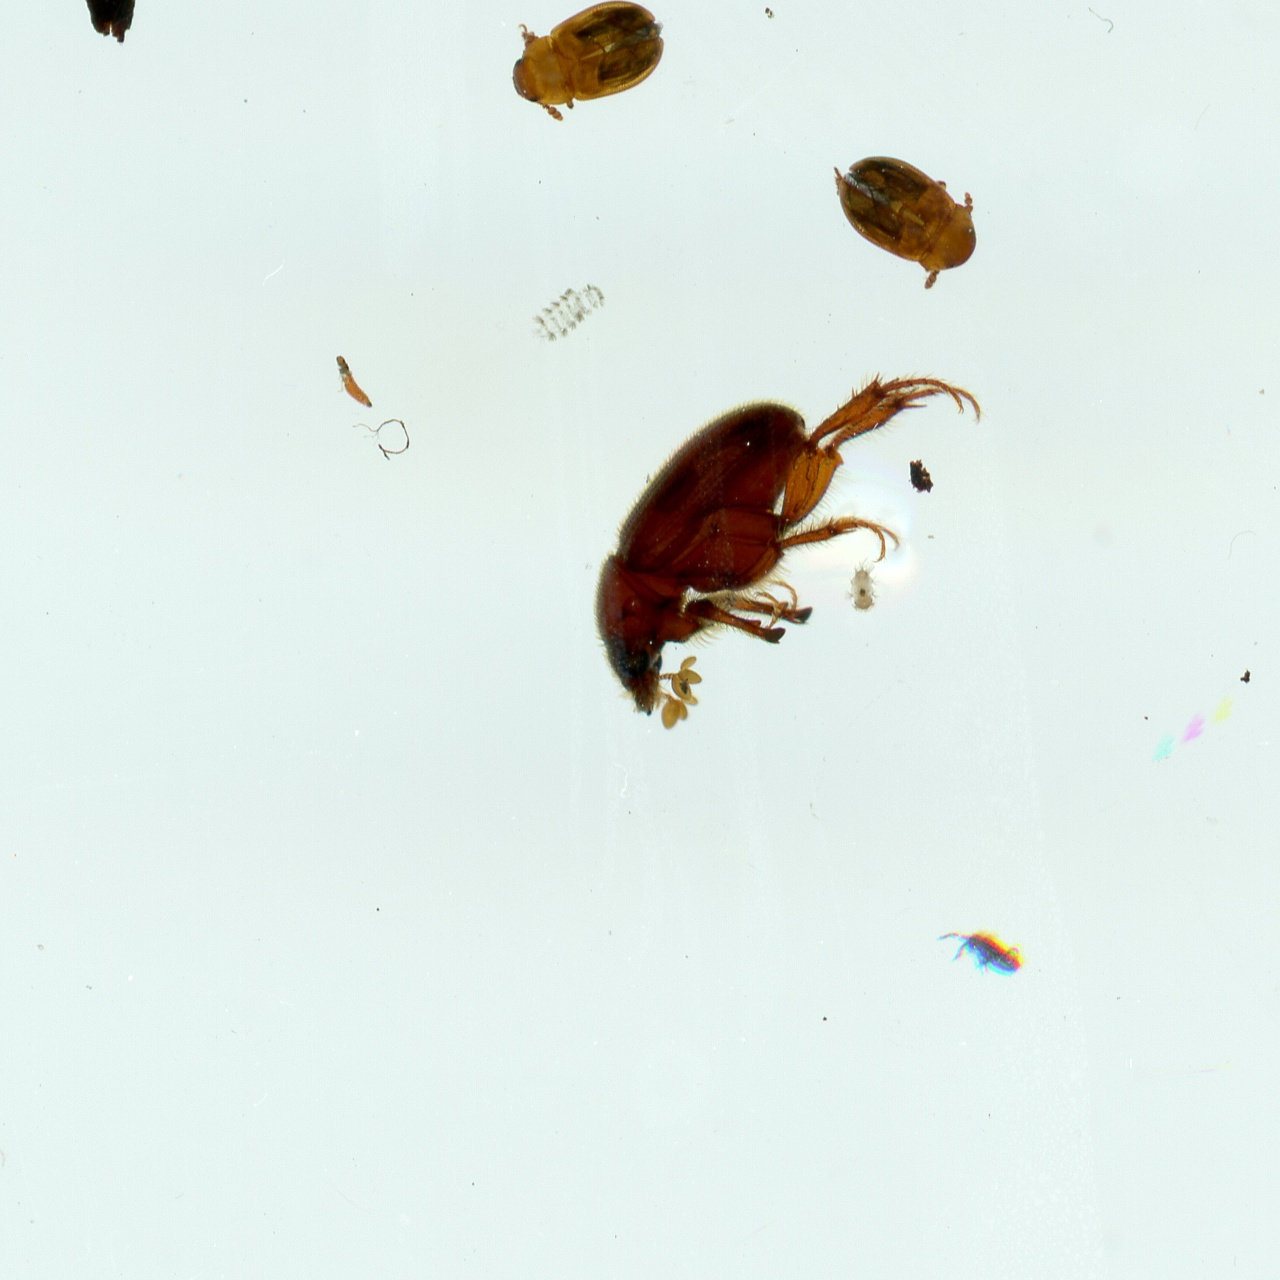arthropod: (599, 346, 988, 765), (820, 136, 995, 298), (491, 0, 679, 117), (934, 923, 1043, 980), (835, 554, 882, 618)
